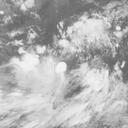cyclone: (35, 47, 92, 102)
